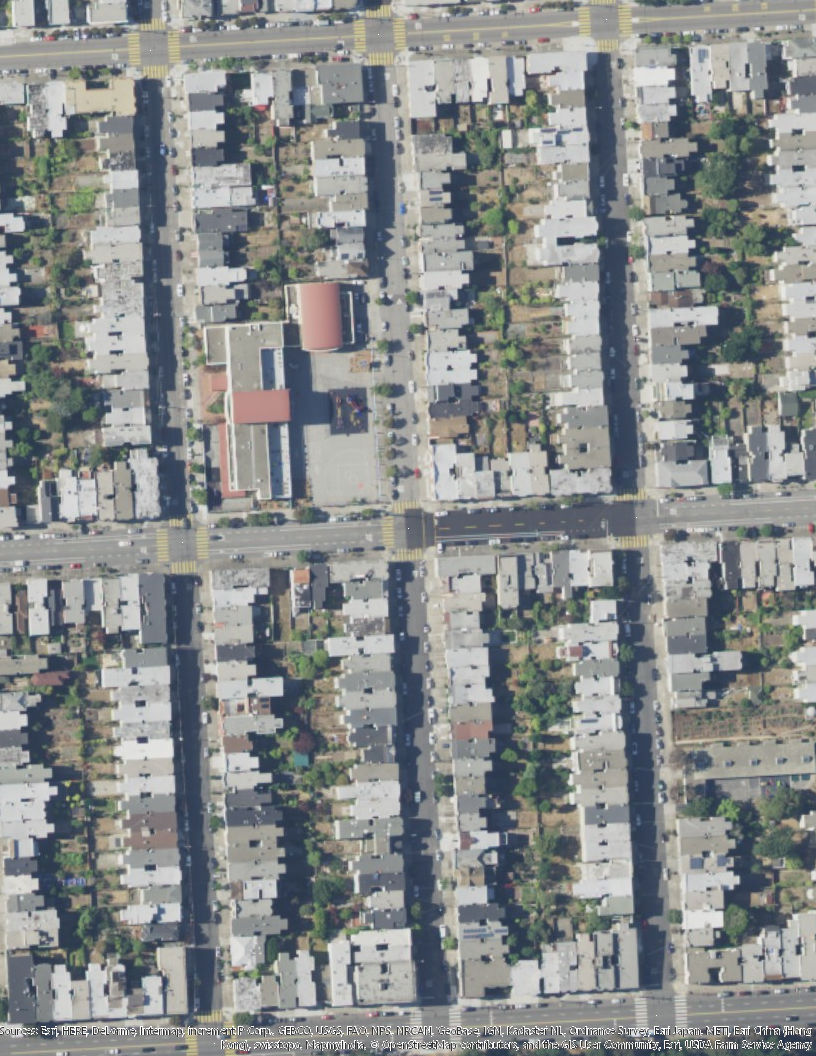zebracross: (126, 31, 143, 66), (614, 534, 649, 550), (391, 18, 408, 50), (381, 514, 396, 549), (614, 488, 648, 503), (674, 995, 689, 1029), (196, 525, 210, 561), (618, 5, 633, 37), (155, 529, 169, 563), (449, 1008, 462, 1044), (167, 31, 181, 63), (411, 1009, 423, 1044), (634, 997, 648, 1027), (393, 548, 425, 561), (394, 501, 423, 515), (577, 7, 591, 36), (355, 19, 367, 52), (168, 513, 196, 527), (365, 3, 391, 18), (169, 562, 198, 575), (194, 1011, 223, 1024), (143, 66, 170, 79), (369, 53, 395, 66), (137, 18, 164, 30), (598, 40, 619, 52), (187, 1035, 197, 1056), (592, 1, 617, 6)
